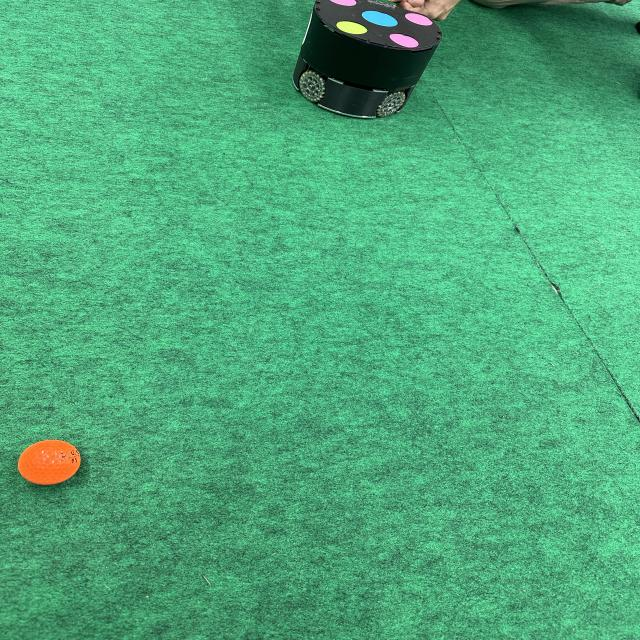ball: (16, 439, 82, 487)
